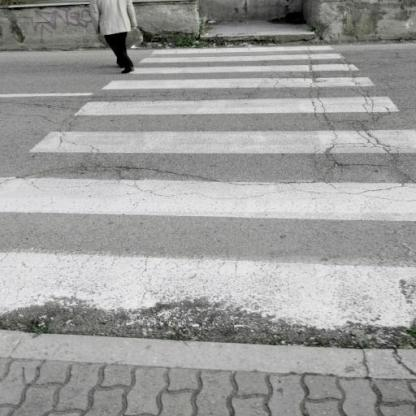crosswalk: (0, 165, 416, 343), (65, 74, 401, 124)
